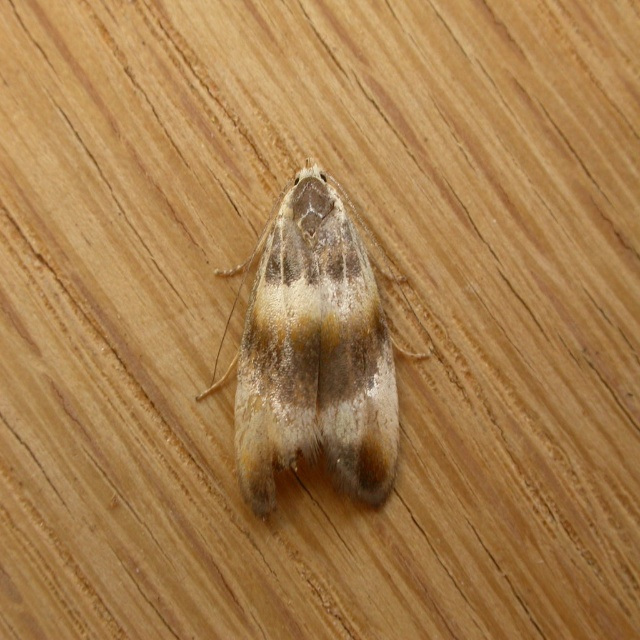Moths and butterflies: (194, 159, 445, 521)
